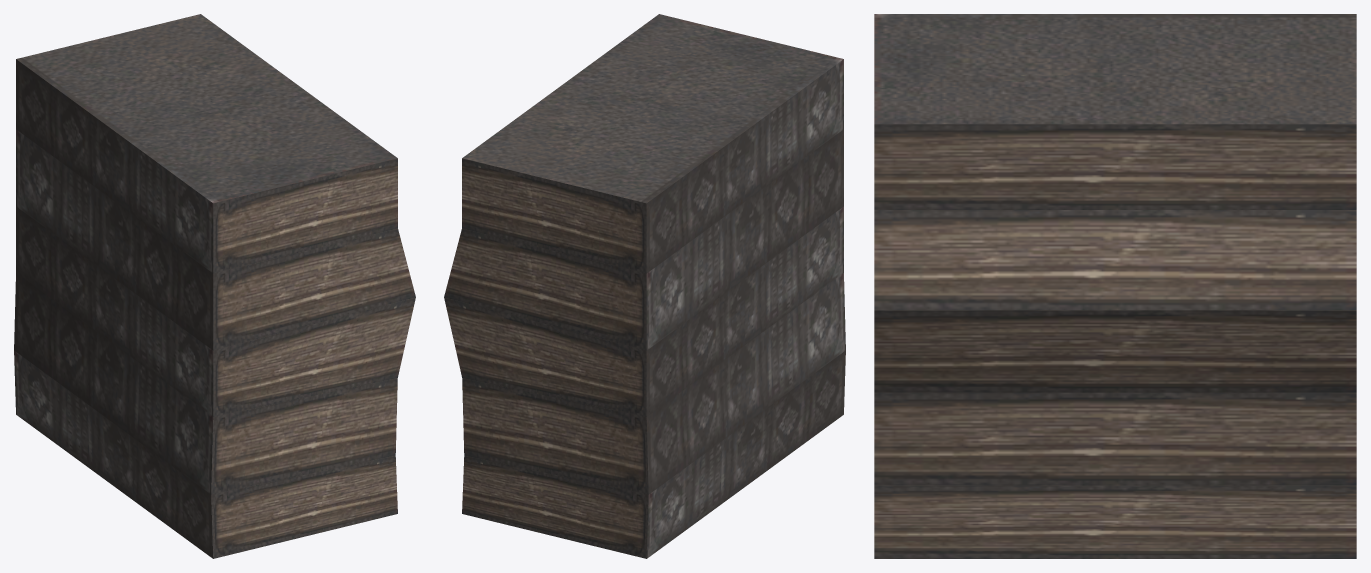
Rendered from p_glo_books_row02_LOD1.obj.
3 views of the same model, side by side, from view 1: azimuth 30°, elevation 25°; view 2: azimuth 150°, elevation 25°; view 3: azimuth 270°, elevation 25° (orthographic). The views are drawn at different scales.
Visible parts, largest first — view 1: mtl_p_glo_books; view 2: mtl_p_glo_books; view 3: mtl_p_glo_books.
Part boxes in pixels (x1,y1,x2,y2): mtl_p_glo_books: (14,14,415,558); mtl_p_glo_books: (444,14,845,558); mtl_p_glo_books: (874,14,1356,558).
Size of the model in its own units: 15.37 by 25.5 by 25.63.
